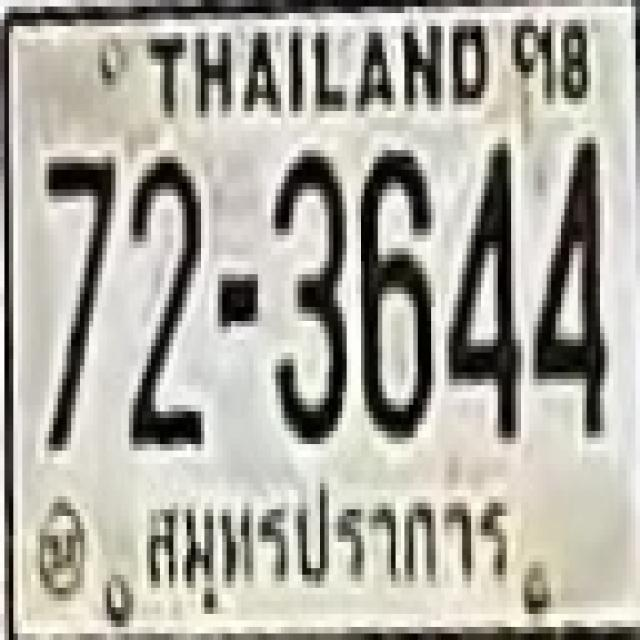2: (126, 154, 198, 448), (126, 154, 198, 422)
3: (271, 147, 342, 441)
4: (529, 131, 604, 431), (444, 137, 516, 438)
6: (358, 147, 429, 434)
7: (45, 150, 111, 444), (45, 150, 111, 353)
SPK: (137, 470, 515, 598)
